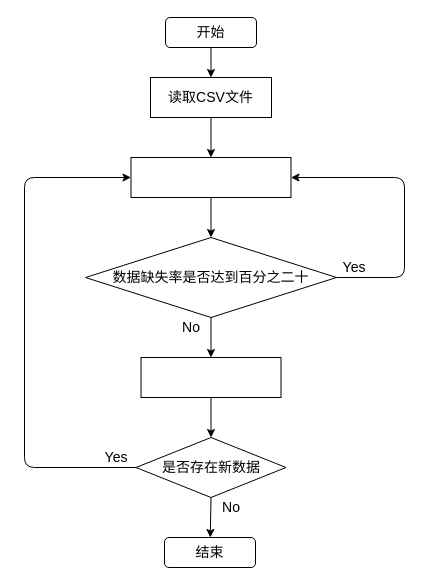
Some shapes in this 430 by 585 pixel diagram are drawn without their labels. The box of each missing label's shape, as (x1, y1, x2, y2) in pixels:
按时间读取一个数据点: (130, 156, 291, 198)
数据填充并保存数据: (140, 356, 281, 398)
